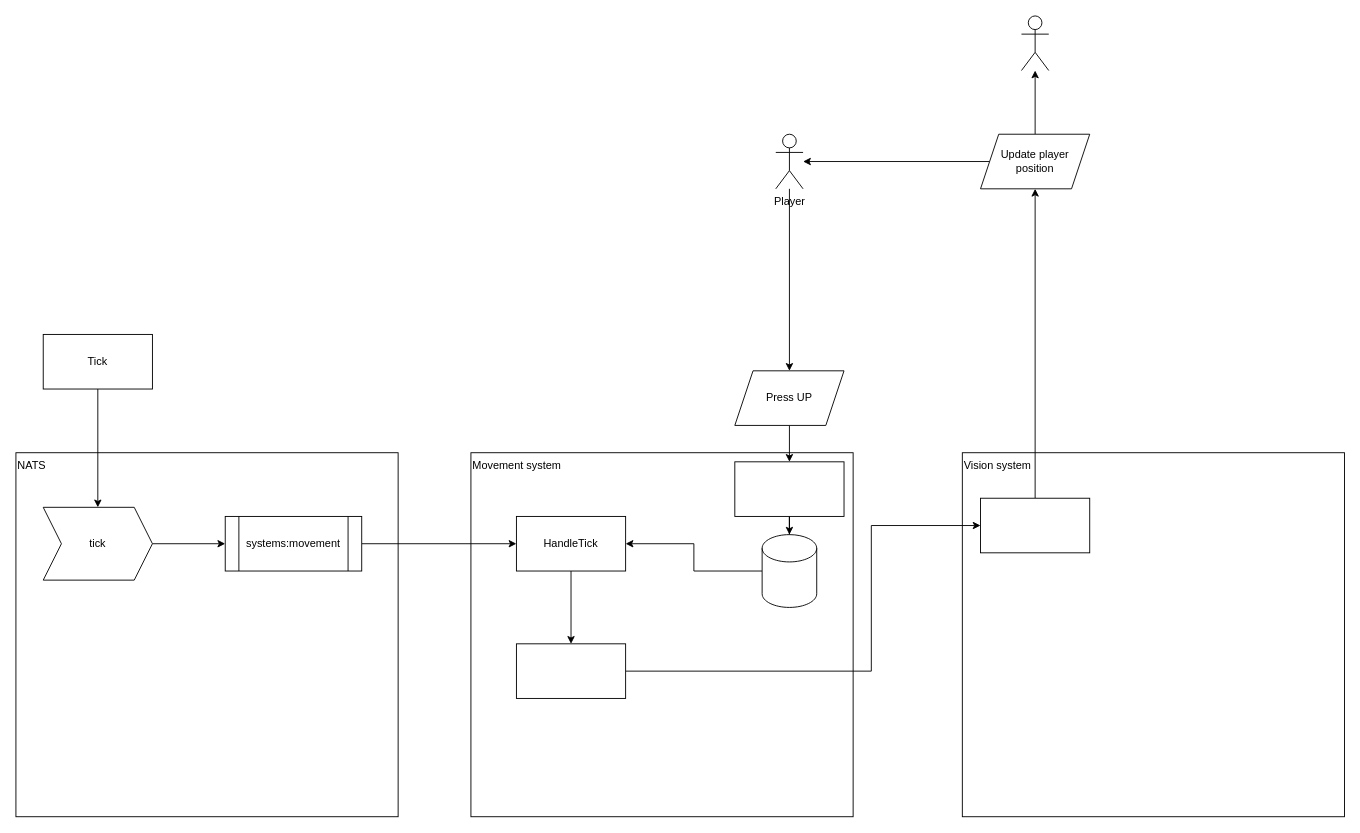
The diagram is 1360 pixels wide and 833 high, and some of its shapes have lost their labels. Each missing label, with the centre of its shape:
ApplyMovements: the point at 571,670
HandleMovement: the point at 1035,525
Other players: the point at 1035,43
Pending actions: the point at 789,570
Queue MoveUp Action: the point at 789,488
